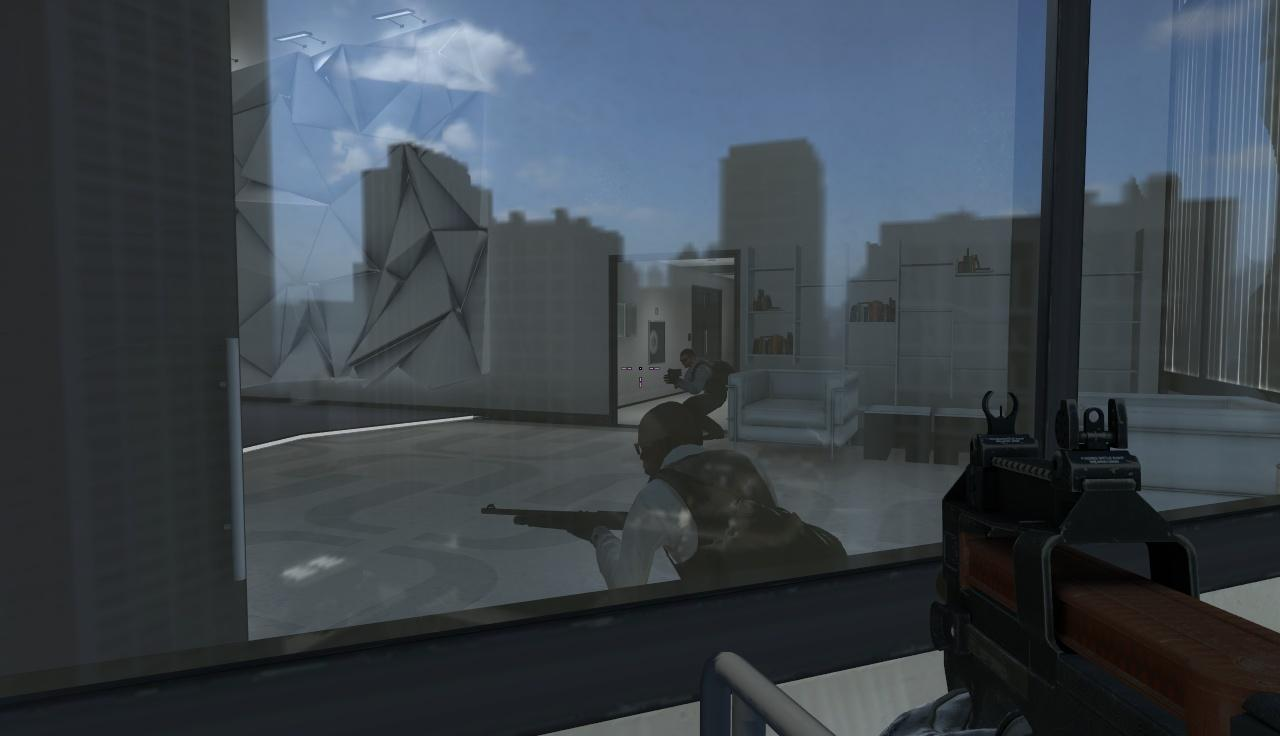rifle: (937, 388, 1280, 736)
tt: (630, 400, 780, 568), (679, 347, 726, 400)
tthead: (638, 402, 701, 476), (680, 349, 695, 366)
